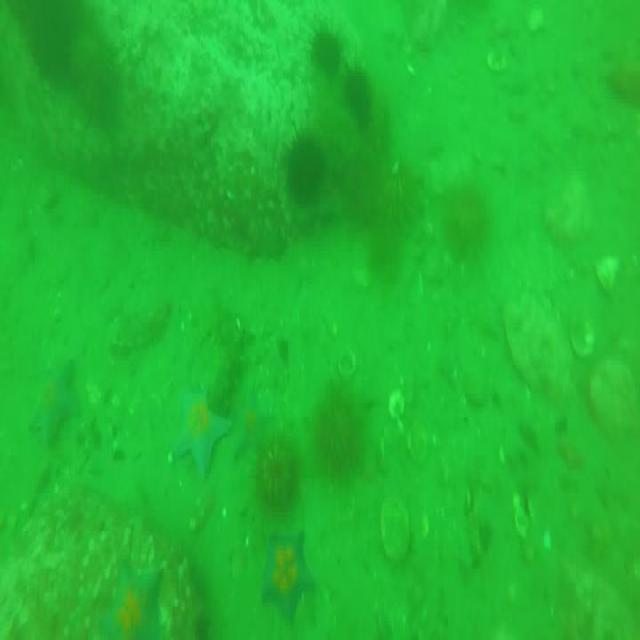echinus: (316, 376, 364, 485), (442, 169, 493, 264), (254, 440, 302, 510), (286, 134, 324, 198), (310, 28, 343, 78), (342, 71, 374, 122)
scallop: (379, 501, 412, 567), (569, 313, 595, 362), (408, 424, 428, 463), (388, 387, 407, 424), (337, 346, 355, 381), (486, 47, 507, 73), (514, 507, 530, 539)
starfish: (170, 382, 230, 478), (257, 531, 312, 632), (30, 354, 84, 450), (100, 567, 164, 640), (234, 390, 268, 472)
